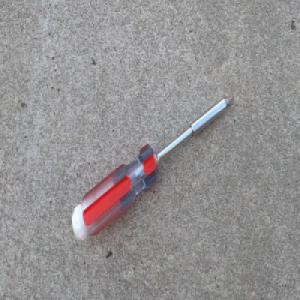Screwdriver: (70, 91, 235, 242)
